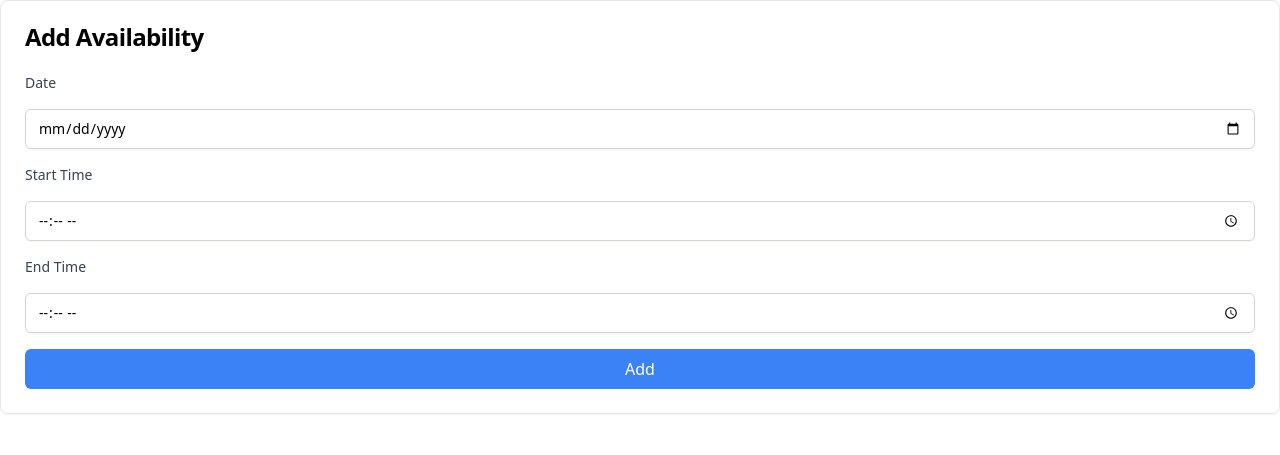
Test case: AddAvailability › date should be in the future
Type "2021-01-01" into the date field labelled "Date" at (640, 129), box [25,109,1255,149]
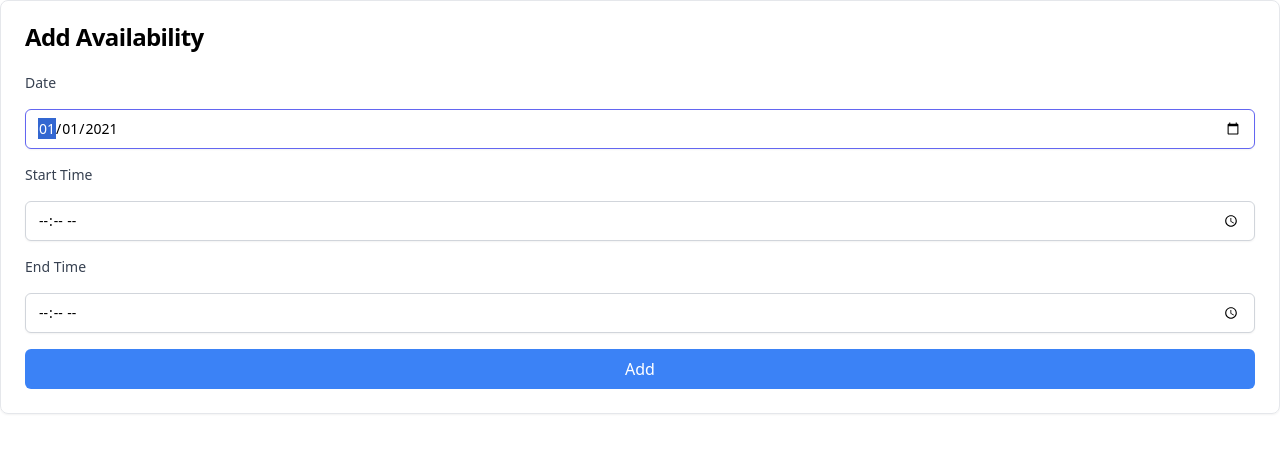
Type "10:00" into the time field labelled "Start Time" at (640, 221), box [25,201,1255,241]
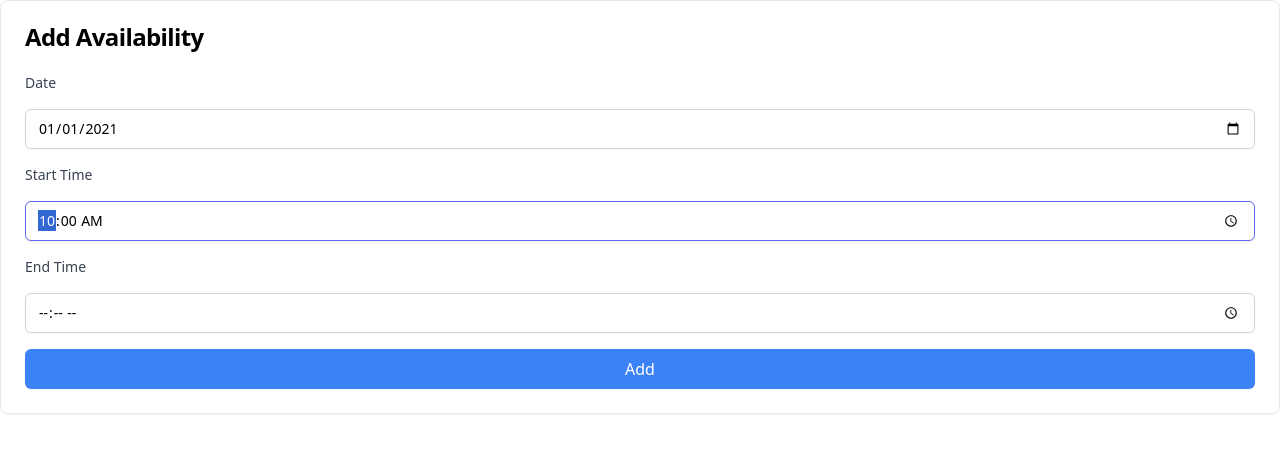
Type "11:00" into the time field labelled "End Time" at (640, 313), box [25,293,1255,333]
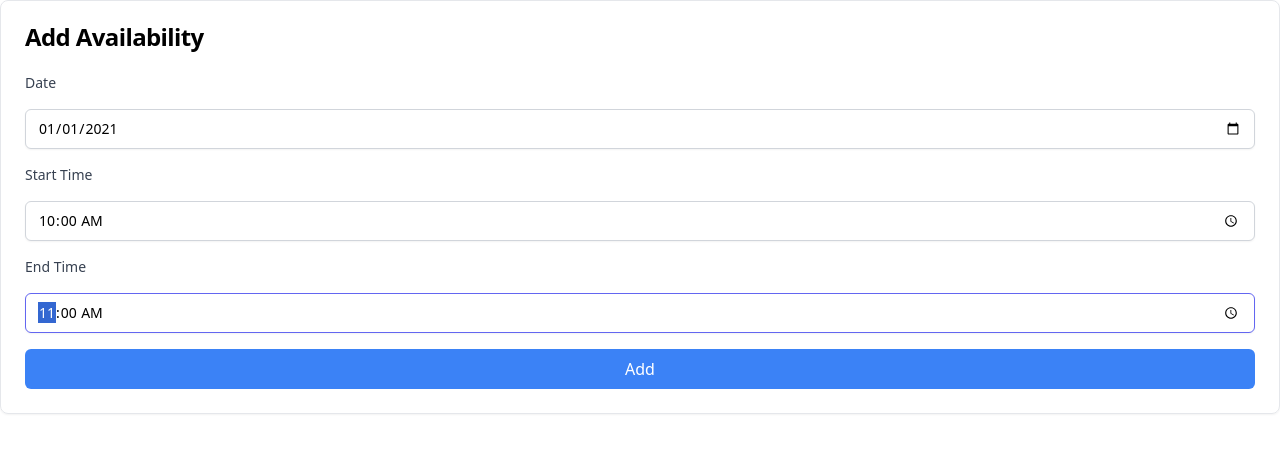
Click the button "Add" at (640, 369), box [25,349,1255,389]
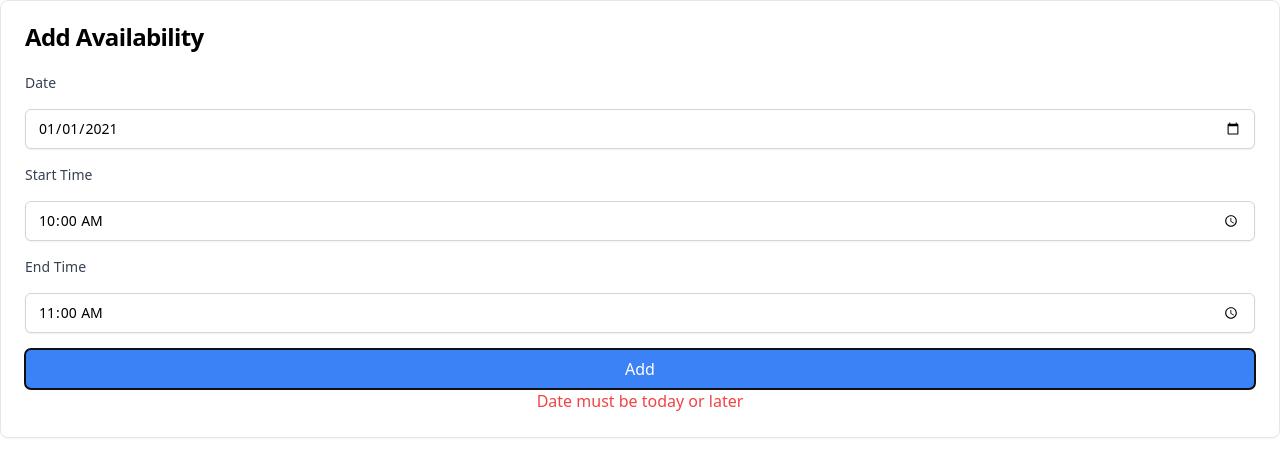
Check: the text "Date must be today or later" is shown, box [537,390,743,412]
